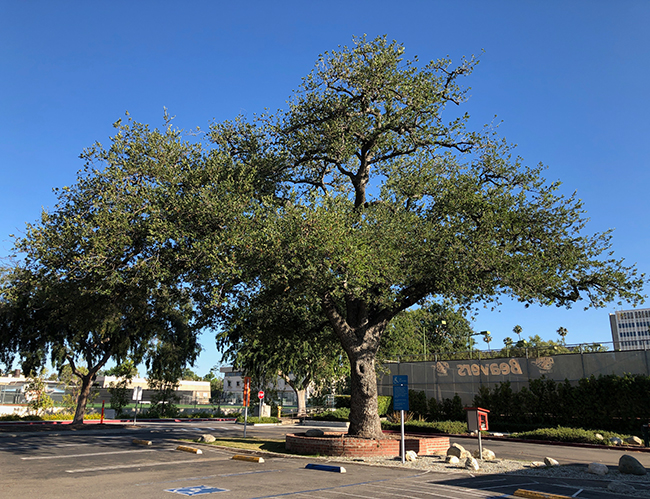tree: (166, 30, 650, 441), (1, 168, 205, 430)
